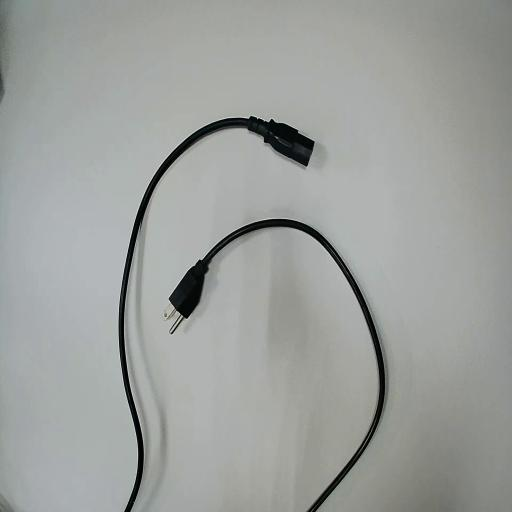wire: (120, 117, 313, 511), (171, 220, 384, 511)
